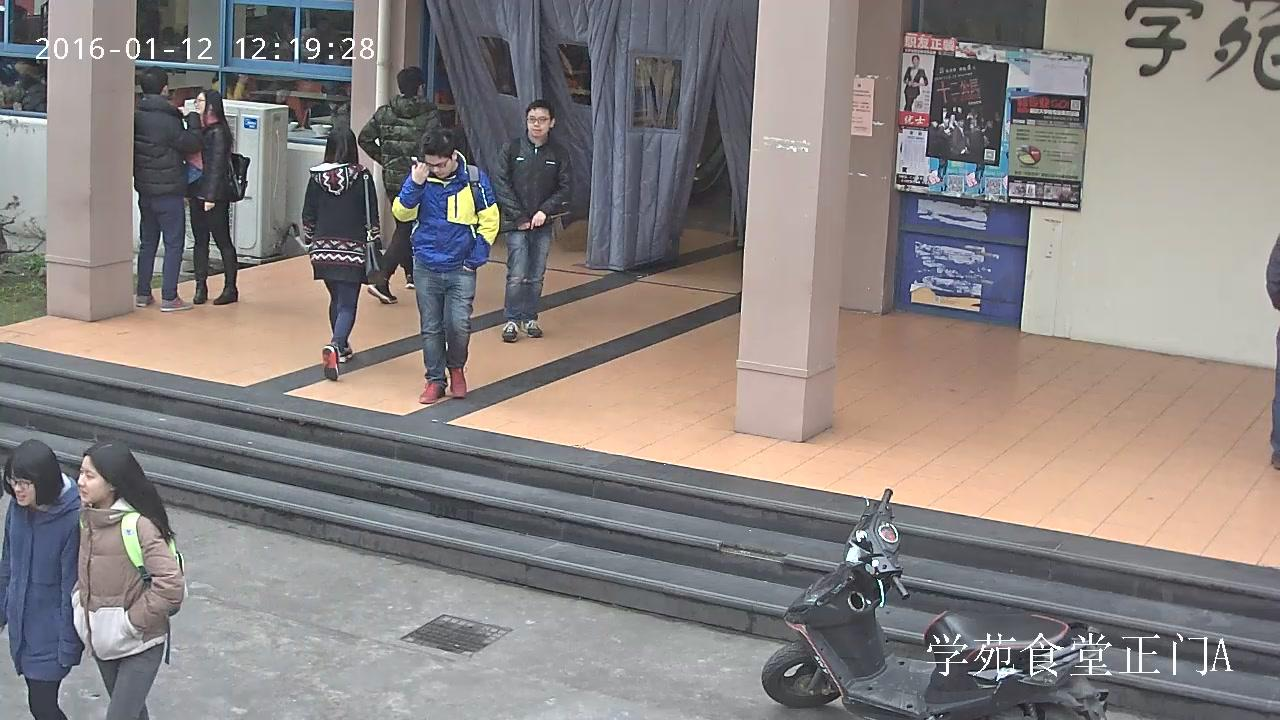person: (70, 440, 186, 720), (390, 126, 500, 402), (300, 128, 392, 381), (0, 439, 81, 720), (357, 65, 447, 301), (492, 99, 571, 339), (133, 65, 204, 311), (187, 87, 250, 305), (251, 80, 308, 127), (903, 55, 929, 112), (210, 71, 255, 98)
